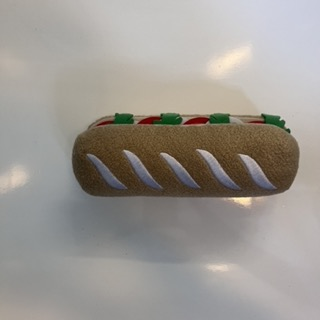sandwich: (71, 112, 299, 198)
